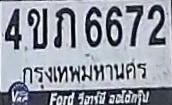2: (148, 4, 166, 45)
4: (4, 7, 21, 49)
6: (105, 5, 122, 46), (84, 6, 101, 46)
7: (125, 4, 143, 46)
A02: (27, 8, 47, 48)
A32: (52, 6, 76, 47)
BKK: (20, 61, 149, 86)
